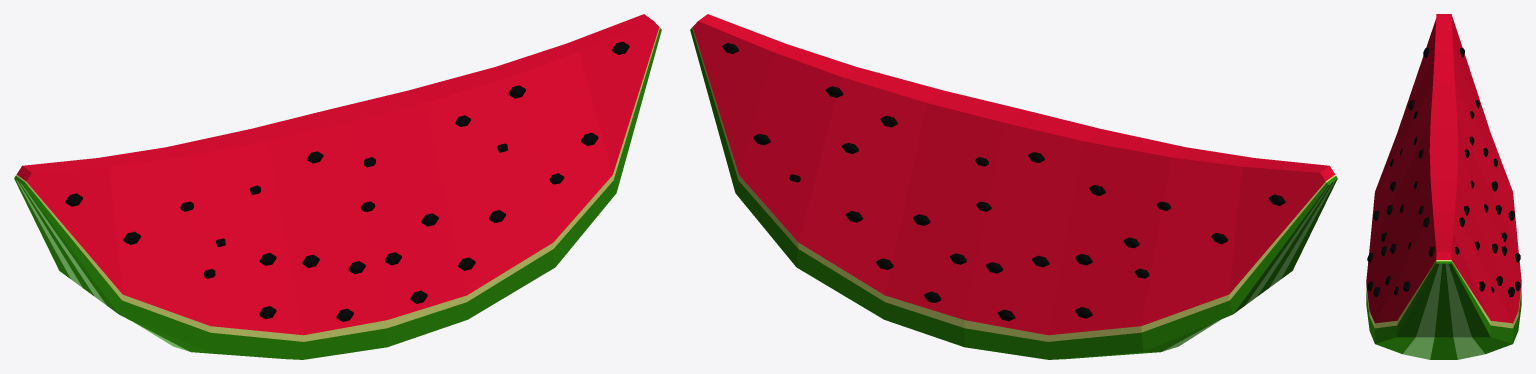
File: watermelon.glb
The picture shows the model from 3 angles, left to right: view 1: azimuth 30°, elevation 25°; view 2: azimuth 150°, elevation 25°; view 3: azimuth 270°, elevation 25°; orthographic projection. The views are drawn at different scales.
Parts seen in each view (by area): view 1: Cube.010; view 2: Cube.010; view 3: Cube.010.
Part boxes in pixels (<box>): Cube.010: <box>14,14,661,359</box>; Cube.010: <box>690,14,1337,359</box>; Cube.010: <box>1366,14,1521,359</box>.
Bounding box in the file's own units: 8.65 × 3.08 × 2.33.
